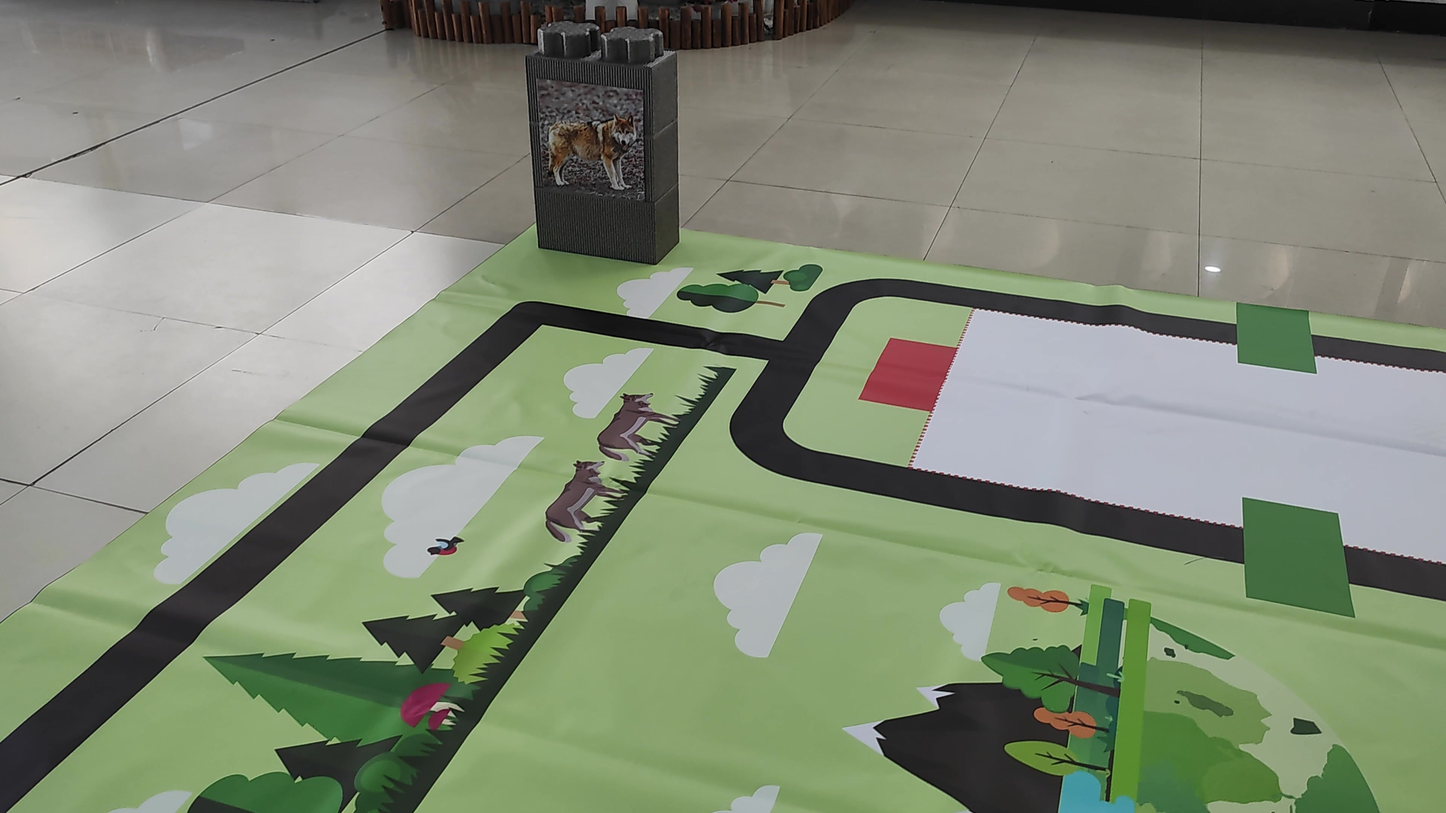wolf: (538, 95, 648, 195)
